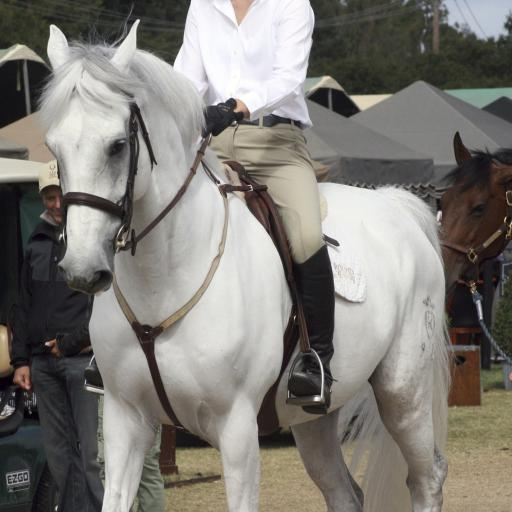Horse: (36, 18, 450, 512), (444, 131, 512, 297)
